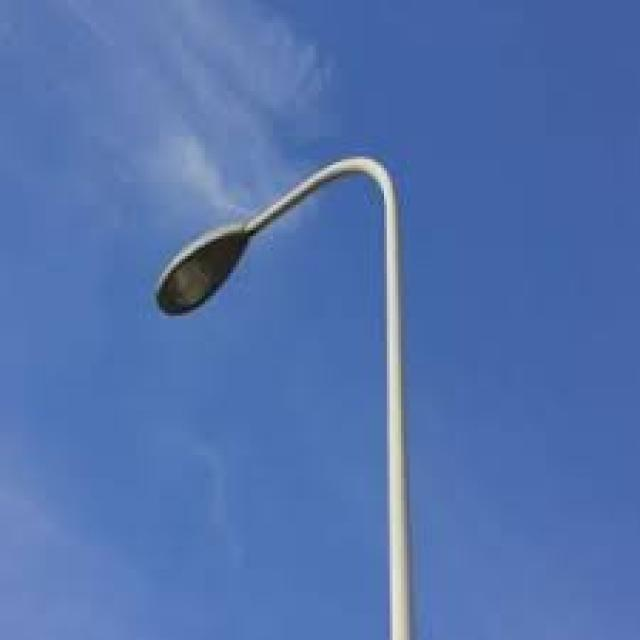Street Light: (153, 153, 418, 640)
